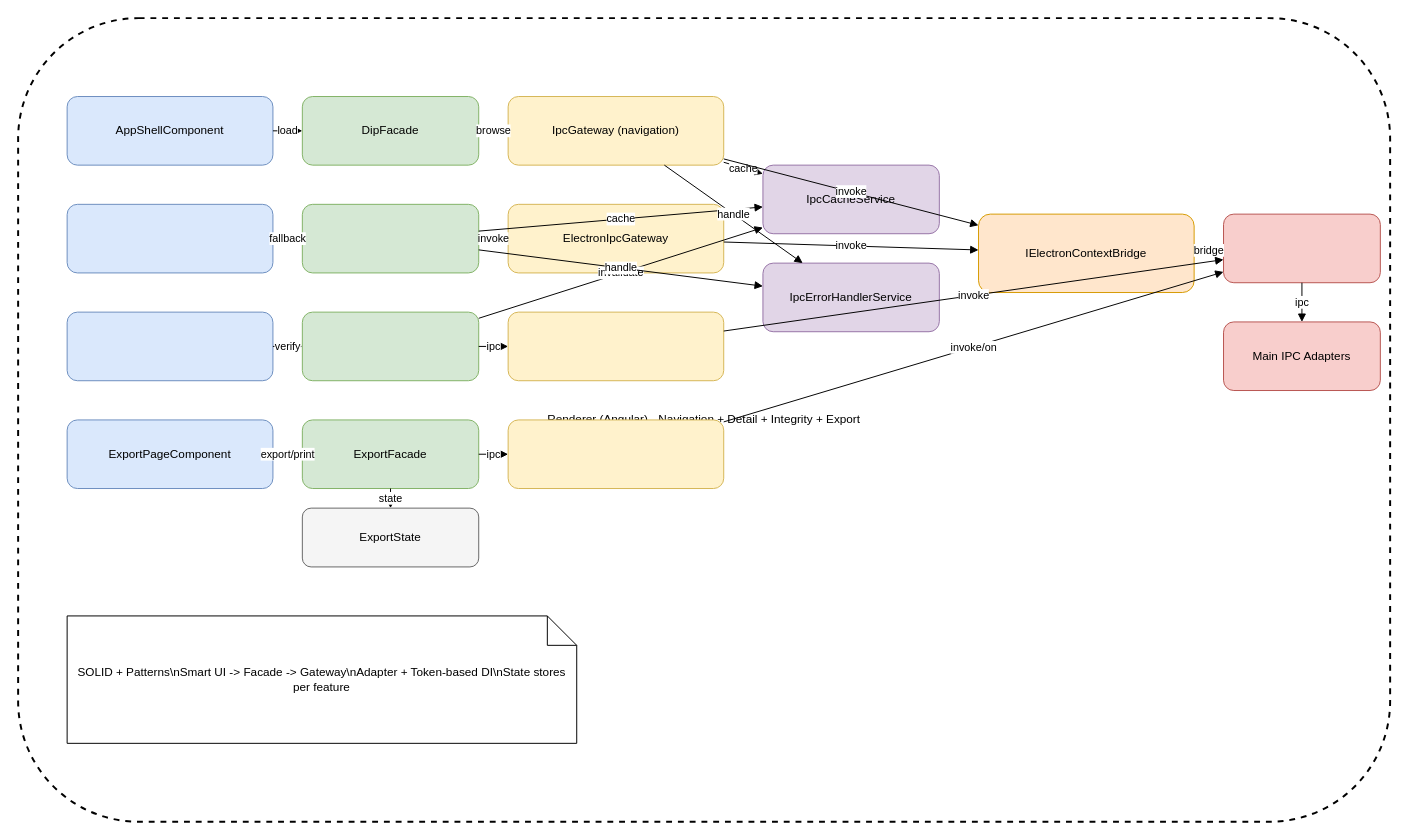
Some shapes in this 1407 by 839 pixel diagram are drawn without their labels. The shapes that lost their labels are listed below. From the top down, each one's centre as x and y in pixels, then its label:
the point at 169,238: ItemDetailPageComponent
the point at 390,238: NodeFallbackFacade
the point at 1301,248: Preload Bridge
the point at 169,346: IntegrityDashboardComponent
the point at 390,346: IntegrityFacade
the point at 615,346: IntegrityIpcGateway
the point at 615,454: ExportIpcGateway
